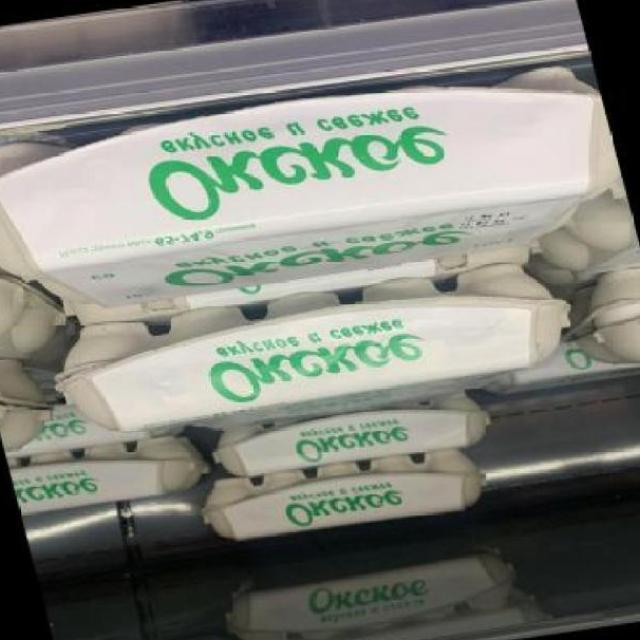Egg: (0, 56, 636, 330), (45, 256, 588, 441), (190, 441, 498, 548), (205, 388, 497, 482), (558, 266, 640, 376)
